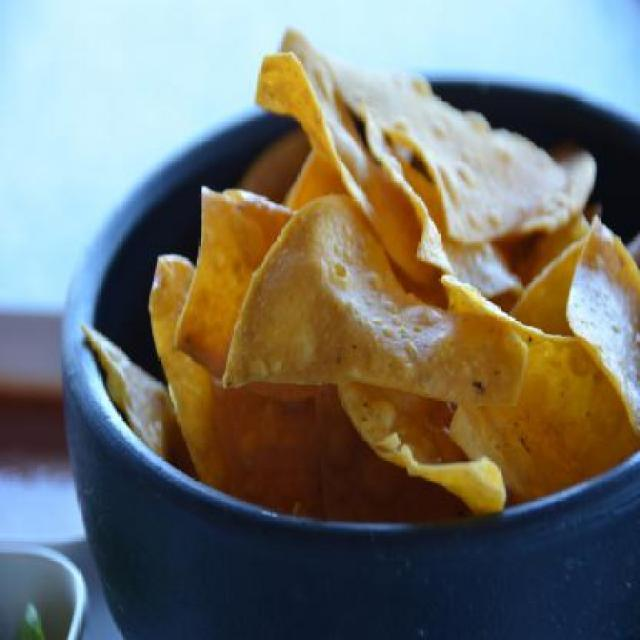Chips packaged: (94, 16, 634, 530), (232, 184, 528, 426), (338, 58, 600, 260)
